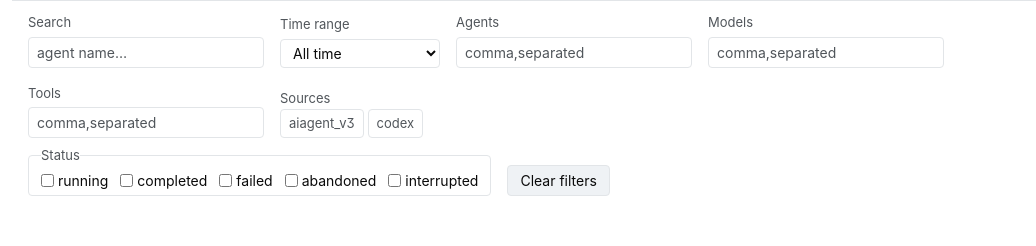
Test: FilterBar › editing the tools input writes its param
In the field named "Tools filter": (146, 122) [28, 107, 264, 138], type "tool1"
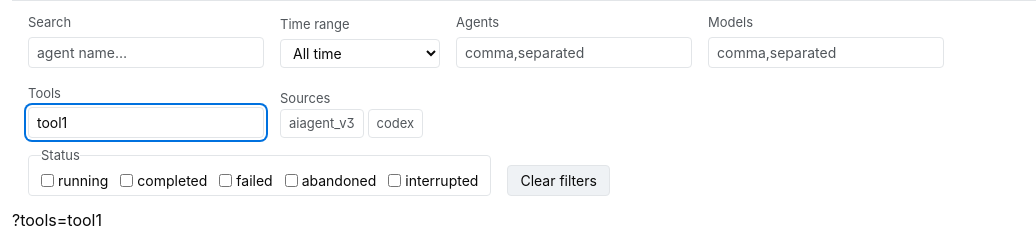
Expected: the text with test id "loc" shows "tools=tool1", [12, 210, 102, 230]
